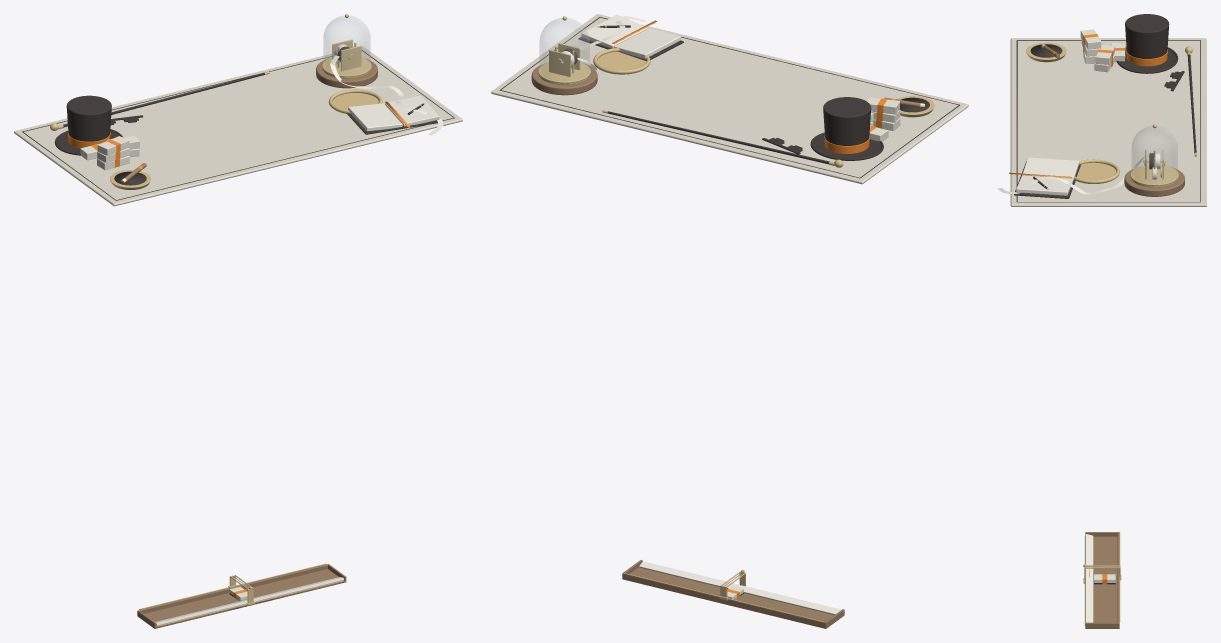
File: desk.glb
3 views of the same model, side by side, from view 1: azimuth 30°, elevation 25°; view 2: azimuth 150°, elevation 25°; view 3: azimuth 270°, elevation 25° (orthographic). The views are drawn at different scales.
Parts seen in each view (by area): view 1: Blotter, Ticker.Dome, Tray.Base, Hat.Crown, Ledger.Page.L, Tray.Back, Ledger.Page.R, Tray.Scale, Ticker.Base; view 2: Blotter, Ticker.Dome, Hat.Crown, Tray.Base, Tray.Scale, Tray.Back, Ledger.Page.L, Ledger.Page.R, Ticker.Base, Cane.Shaft, Dish.Plate; view 3: Blotter, Ticker.Dome, Tray.Base, Hat.Crown, Ledger.Page.L, Ledger.Page.R, Tray.Scale, Ticker.Base, Ticker.DomeFoot, Dish.Plate, Ticker.Tape, Hat.Brim (+4 smaller).
Boxes of the visible parts, x1,y1,x2,y2 form: Blotter: (14,46,462,206); Ticker.Dome: (323,15,370,74); Tray.Base: (144,569,345,628); Hat.Crown: (66,95,111,141); Ledger.Page.L: (348,103,402,131); Tray.Back: (137,564,328,615); Ledger.Page.R: (385,95,439,126); Tray.Scale: (155,577,343,625); Ticker.Base: (316,58,377,88); Blotter: (491,14,968,184); Ticker.Dome: (539,18,589,80); Hat.Crown: (823,97,871,145); Tray.Base: (624,567,834,627); Tray.Scale: (639,561,841,614); Tray.Back: (622,573,826,628); Ledger.Page.L: (614,28,680,58); Ledger.Page.R: (581,14,648,48); Ticker.Base: (531,64,597,95); Cane.Shaft: (607,111,829,164); Dish.Plate: (597,51,646,74); Blotter: (1010,38,1206,206); Ticker.Dome: (1131,126,1177,183); Tray.Base: (1086,536,1118,628); Hat.Crown: (1125,14,1169,58); Ledger.Page.L: (1022,157,1079,180); Ledger.Page.R: (1016,175,1073,195); Tray.Scale: (1085,534,1093,622); Ticker.Base: (1124,168,1184,196); Ticker.DomeFoot: (1130,165,1178,185); Dish.Plate: (1077,162,1116,183); Ticker.Tape: (997,155,1149,194); Hat.Brim: (1119,48,1176,71).
Size of the model in its own units: 31 by 45.22 by 16.48.
